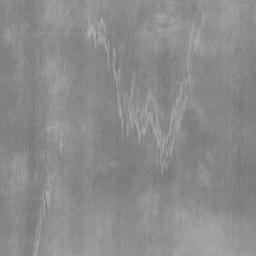Silk spot: (95, 12, 188, 187), (23, 123, 53, 256), (182, 109, 198, 144), (132, 80, 147, 110), (190, 5, 202, 29), (158, 44, 169, 67), (194, 86, 215, 96), (202, 22, 209, 35)
